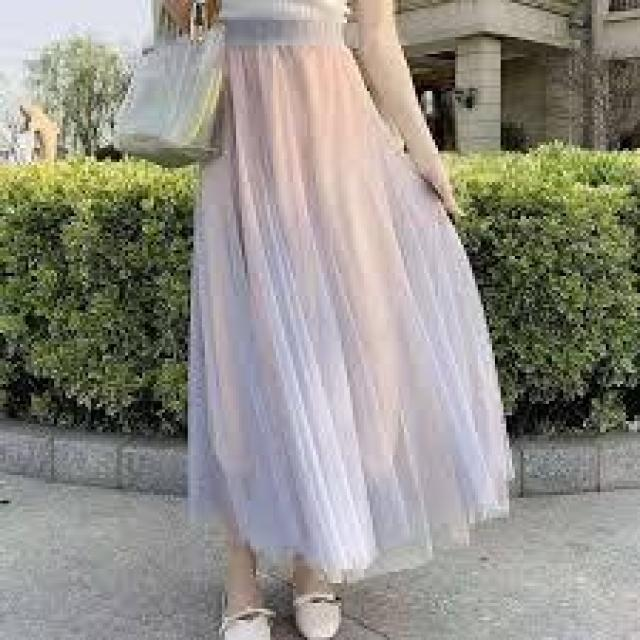skirt: (165, 41, 515, 590)
